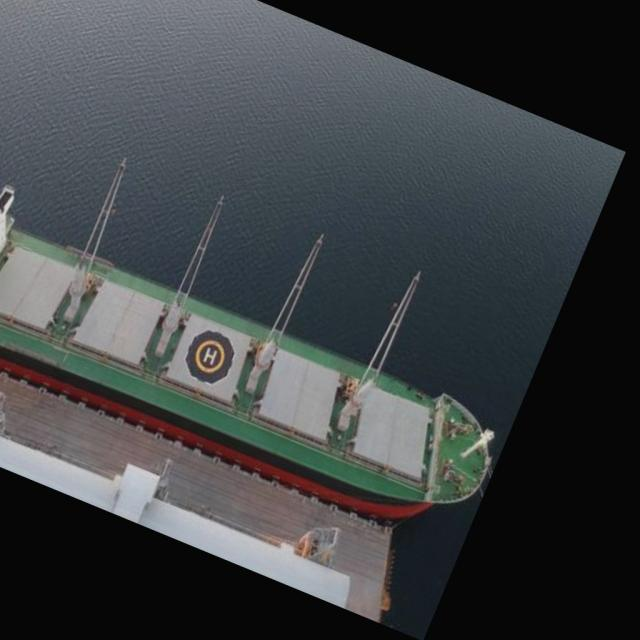helipad: (194, 338, 224, 372)
